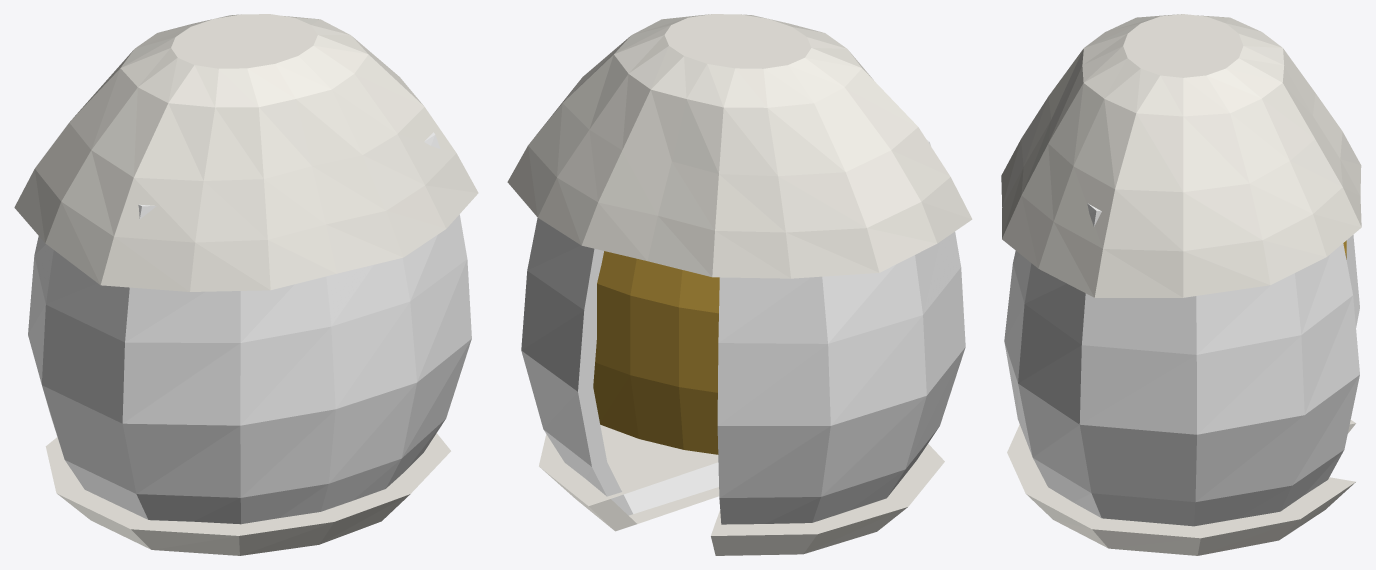
Rendered from vfem2_fat_kings_robes.obj.
3 views of the same model, side by side, from view 1: azimuth 30°, elevation 25°; view 2: azimuth 150°, elevation 25°; view 3: azimuth 270°, elevation 25° (orthographic). The views are drawn at different scales.
Parts seen in each view (by area): view 1: vfem2_fat_kings_robes; view 2: vfem2_fat_kings_robes; view 3: vfem2_fat_kings_robes.
Boxes of the visible parts, x1,y1,x2,y2 form: vfem2_fat_kings_robes: (14,14,478,555); vfem2_fat_kings_robes: (507,14,972,555); vfem2_fat_kings_robes: (1001,14,1361,555).
Size of the model in its own units: 0.7365 by 0.79 by 0.5863.
